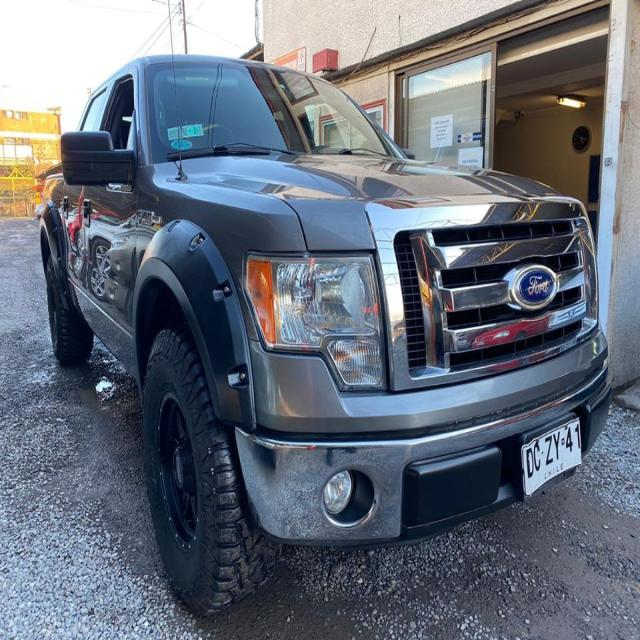patente: (520, 415, 582, 497)
